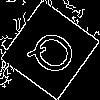Q: (25, 25, 87, 85)
